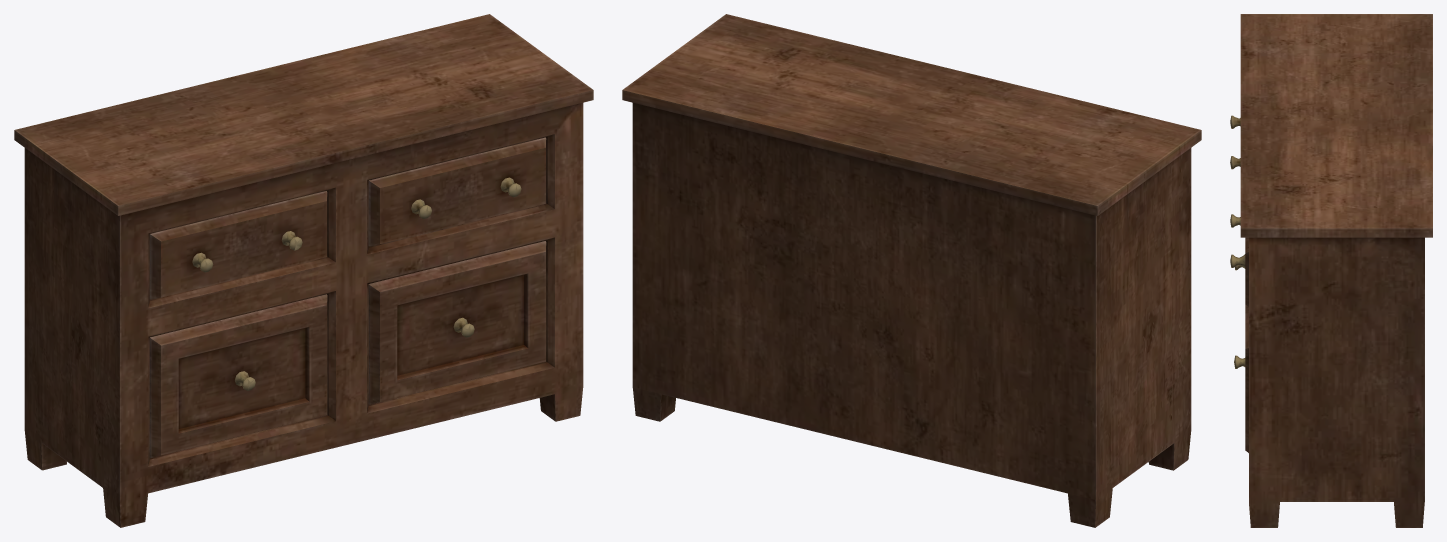
File: Dresser.glb
The picture shows the model from 3 angles, left to right: view 1: azimuth 30°, elevation 25°; view 2: azimuth 150°, elevation 25°; view 3: azimuth 270°, elevation 25°; orthographic projection. The views are drawn at different scales.
Visible parts, largest first — view 1: Dresser_LOD1; view 2: Dresser_LOD1; view 3: Dresser_LOD1.
Part boxes in pixels (<box>): Dresser_LOD1: <box>14,14,593,527</box>; Dresser_LOD1: <box>622,14,1201,527</box>; Dresser_LOD1: <box>1230,14,1432,527</box>.
Bounding box in the file's own units: 1.49 × 0.9824 × 0.5958.
1 material, 1 textured.
